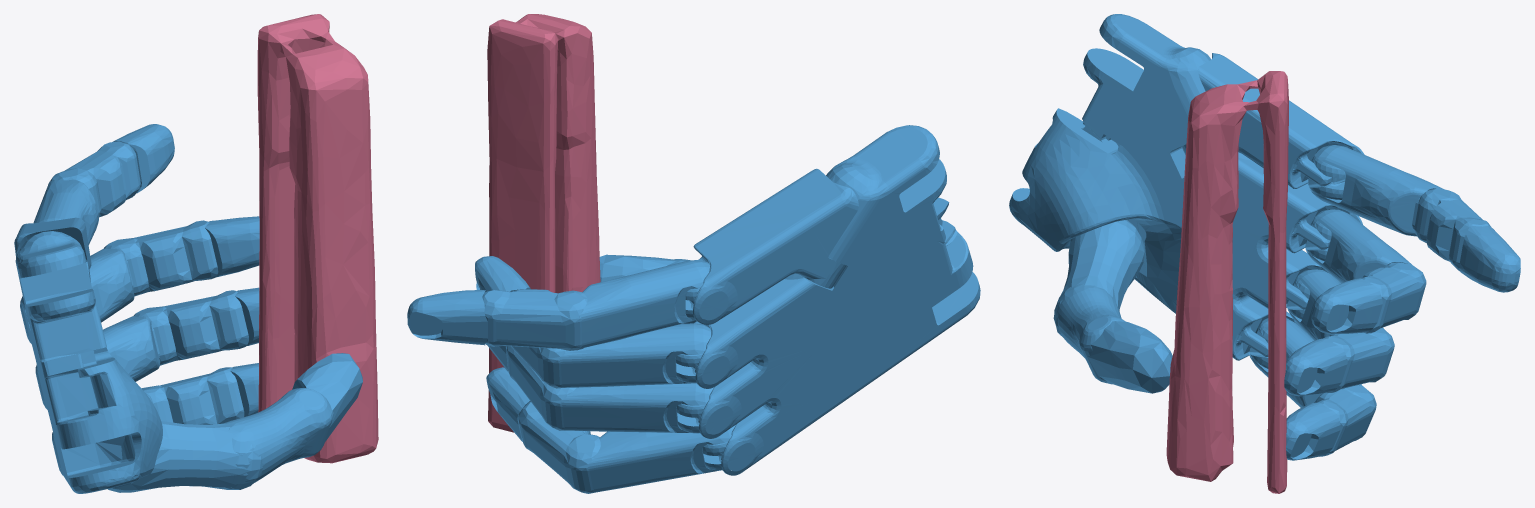
3 views of the same model, side by side, from view 1: azimuth 30°, elevation 25°; view 2: azimuth 150°, elevation 25°; view 3: azimuth 270°, elevation 25° (orthographic). The views are drawn at different scales.
Visible parts, largest first — view 1: 8; view 2: 8; view 3: 8.
Boxes of the visible parts, x1,y1,x2,y2 form: 8: (14, 14, 378, 493); 8: (407, 14, 980, 493); 8: (1009, 14, 1520, 493).
Size of the model in its own units: 0.1436 by 0.1517 by 0.1736.
